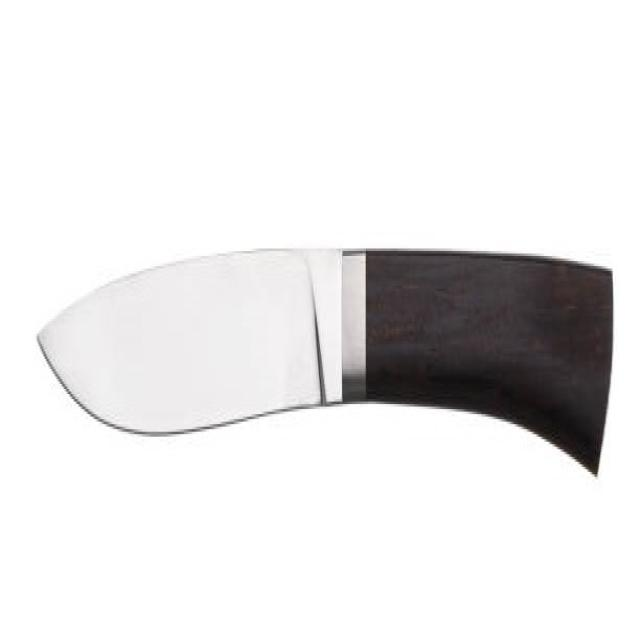knife: (33, 241, 619, 493)
